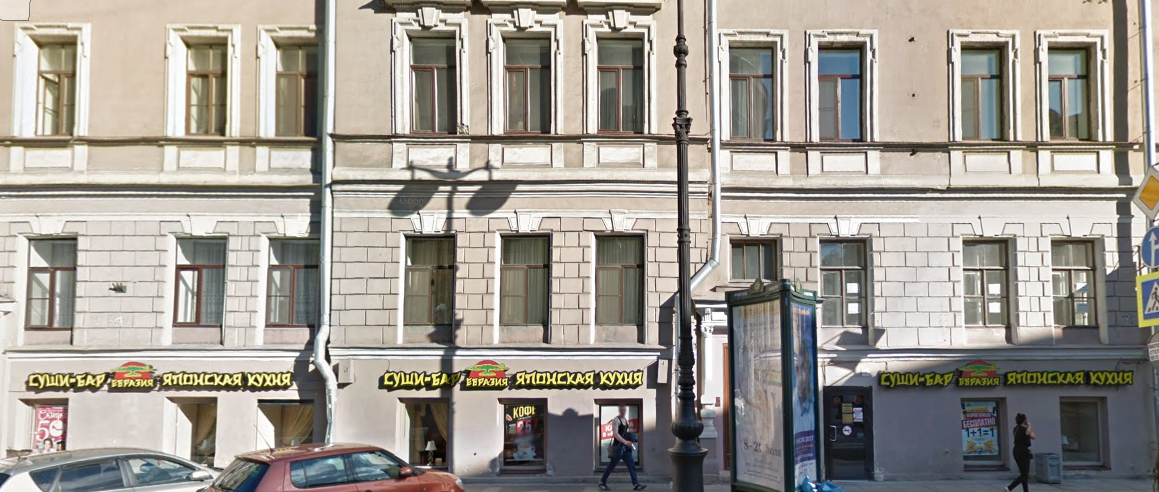door: (824, 381, 874, 482)
signboard: (380, 353, 653, 396), (23, 359, 298, 396), (877, 356, 1138, 391)
window: (265, 233, 323, 326), (728, 37, 779, 142), (396, 235, 454, 326), (174, 230, 226, 331), (409, 35, 459, 138), (598, 38, 649, 138), (493, 235, 547, 329), (29, 41, 78, 139), (181, 35, 229, 135), (1053, 241, 1105, 332), (503, 36, 549, 138), (26, 234, 73, 332), (277, 43, 322, 141), (817, 38, 861, 138), (595, 238, 644, 327), (959, 42, 1003, 141), (1048, 41, 1091, 141), (961, 241, 1008, 328), (958, 401, 1010, 473), (823, 235, 865, 323), (409, 401, 447, 475), (505, 398, 545, 468), (599, 402, 639, 472)
